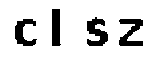c: (10, 17, 42, 47)
l: (46, 6, 70, 51)
s: (82, 17, 111, 51)
z: (113, 15, 150, 51)
